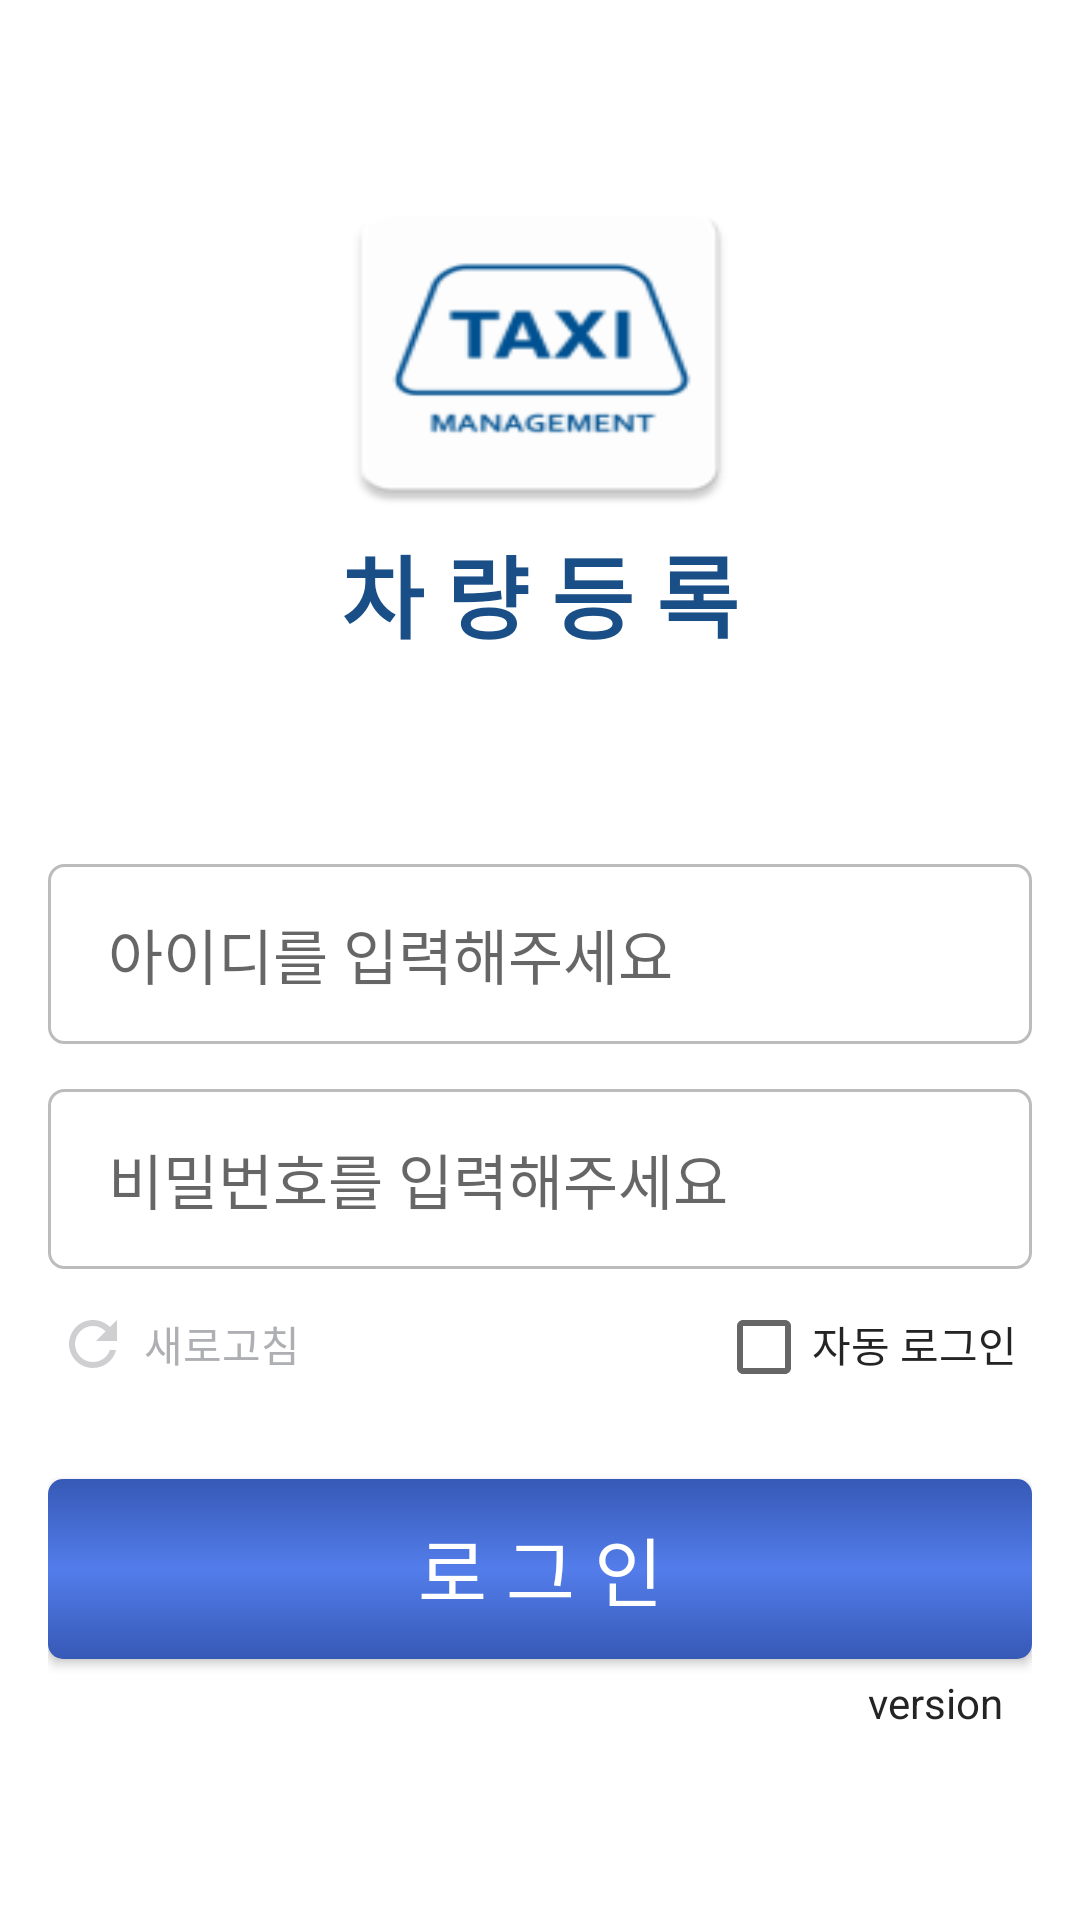

Locate icon controls on the screen. Image size 1080*1920, boxes as box=[x1, y1, x2, y2].
refresh: box=[69, 1320, 117, 1368]
